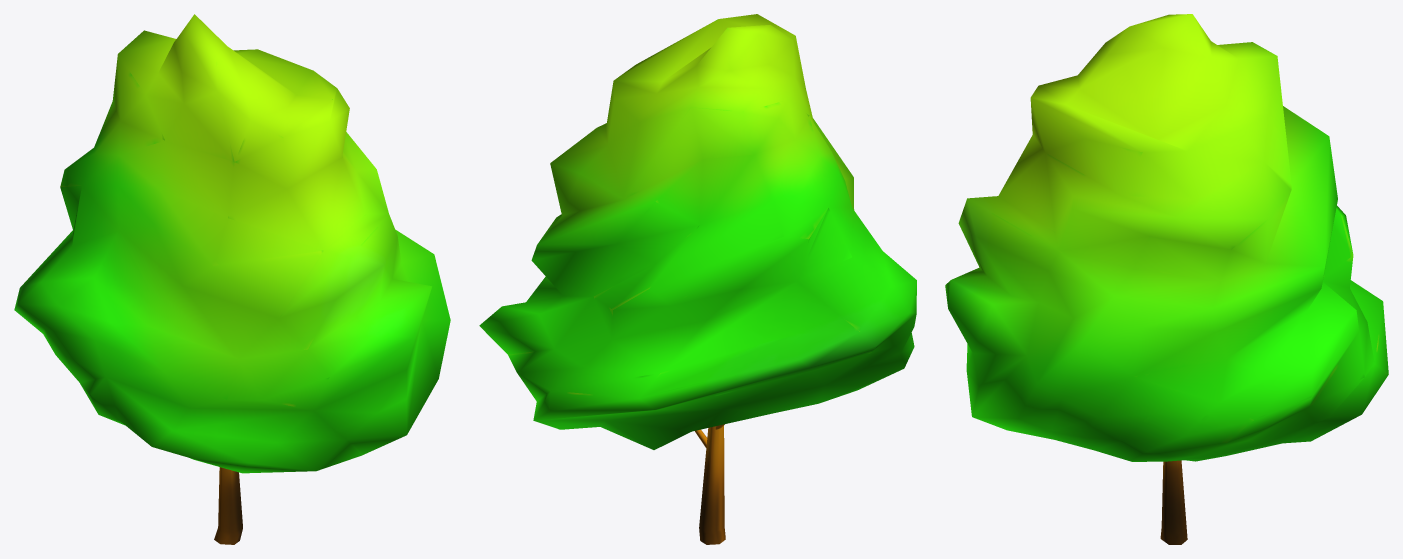
The model's file is TreeStyle3Blue_05.fbx.
The picture shows the model from 3 angles, left to right: view 1: azimuth 30°, elevation 25°; view 2: azimuth 150°, elevation 25°; view 3: azimuth 270°, elevation 25°; orthographic projection. The views are drawn at different scales.
Visible parts, largest first — view 1: TreeStyle3_05; view 2: TreeStyle3_05; view 3: TreeStyle3_05.
Part boxes in pixels (left/top/right/bottom): TreeStyle3_05: left=14, top=14, right=450, bottom=544; TreeStyle3_05: left=479, top=14, right=916, bottom=544; TreeStyle3_05: left=945, top=14, right=1388, bottom=544.
Bounding box in the file's own units: 866 × 1166 × 910.
